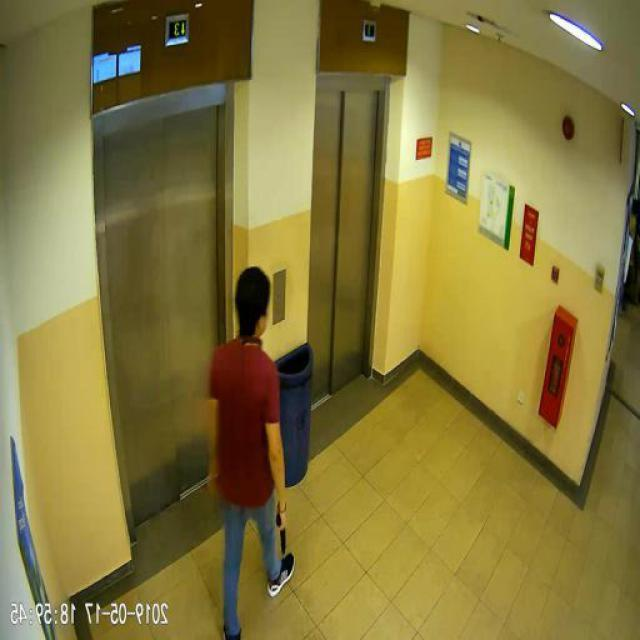weapon: (274, 504, 290, 555)
